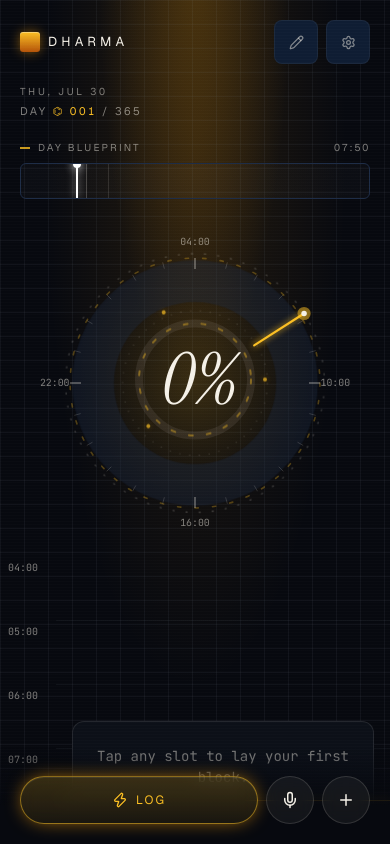
Test: C-m2-020: BuildingClient wires reducer + sheet + onSave (re-authored M2) › Add button opens chooser; Cancel closes without adding block
The image size is (390, 844).
Step 1. Click the button named "Add" → coordinates (346, 800), box 322,776 -> 370,824
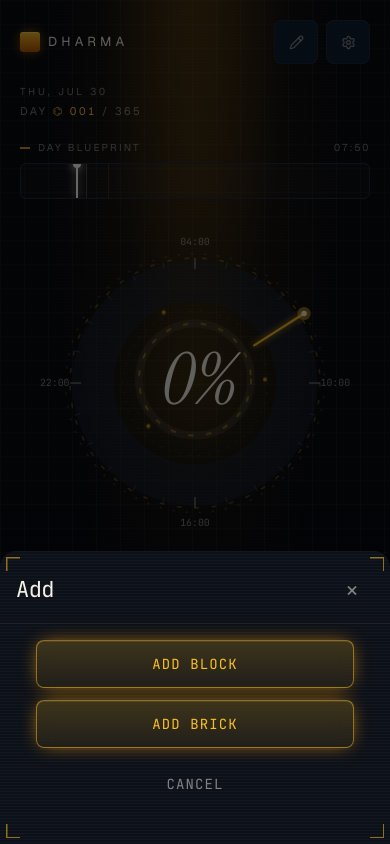
// Cancel the chooser
Step 2. Click the button "Cancel" → coordinates (195, 784), box 36,760 -> 354,808
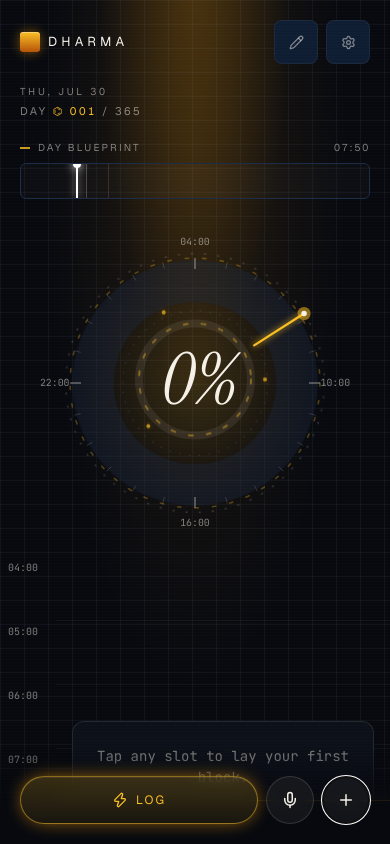
Result: the dialog is gone
